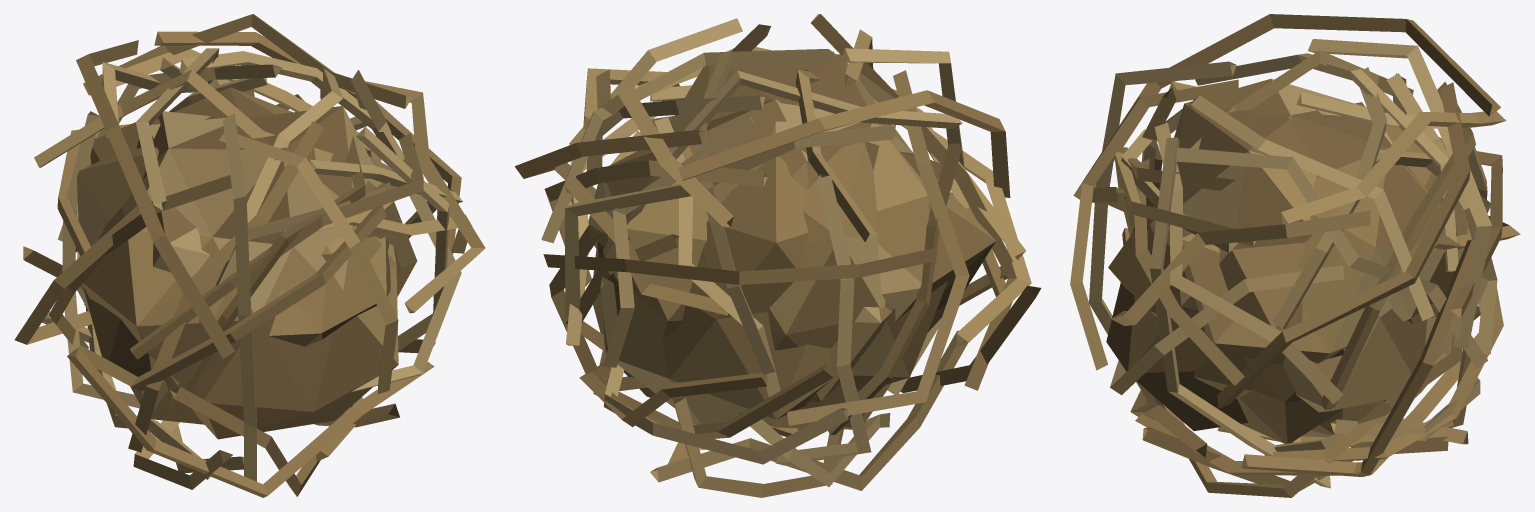
The model's file is tumbleweed.glb.
3 views of the same model, side by side, from view 1: azimuth 30°, elevation 25°; view 2: azimuth 150°, elevation 25°; view 3: azimuth 270°, elevation 25° (orthographic). The views are drawn at different scales.
Visible parts, largest first — view 1: tumbleweed_v0, tumbleweed_v1, tumbleweed_v2; view 2: tumbleweed_v0, tumbleweed_v1, tumbleweed_v2; view 3: tumbleweed_v0, tumbleweed_v2, tumbleweed_v1.
Part boxes in pixels (x1,y1,x2,y2): tumbleweed_v0: (23,14,485,497); tumbleweed_v1: (14,48,462,496); tumbleweed_v2: (34,57,471,479); tumbleweed_v0: (515,48,1041,490); tumbleweed_v1: (543,14,1025,497); tumbleweed_v2: (541,18,1005,486); tumbleweed_v0: (1073,14,1506,490); tumbleweed_v2: (1110,50,1503,464); tumbleweed_v1: (1070,53,1520,497).
Bounding box in the file's own units: 1.01 × 0.9064 × 0.8889.
